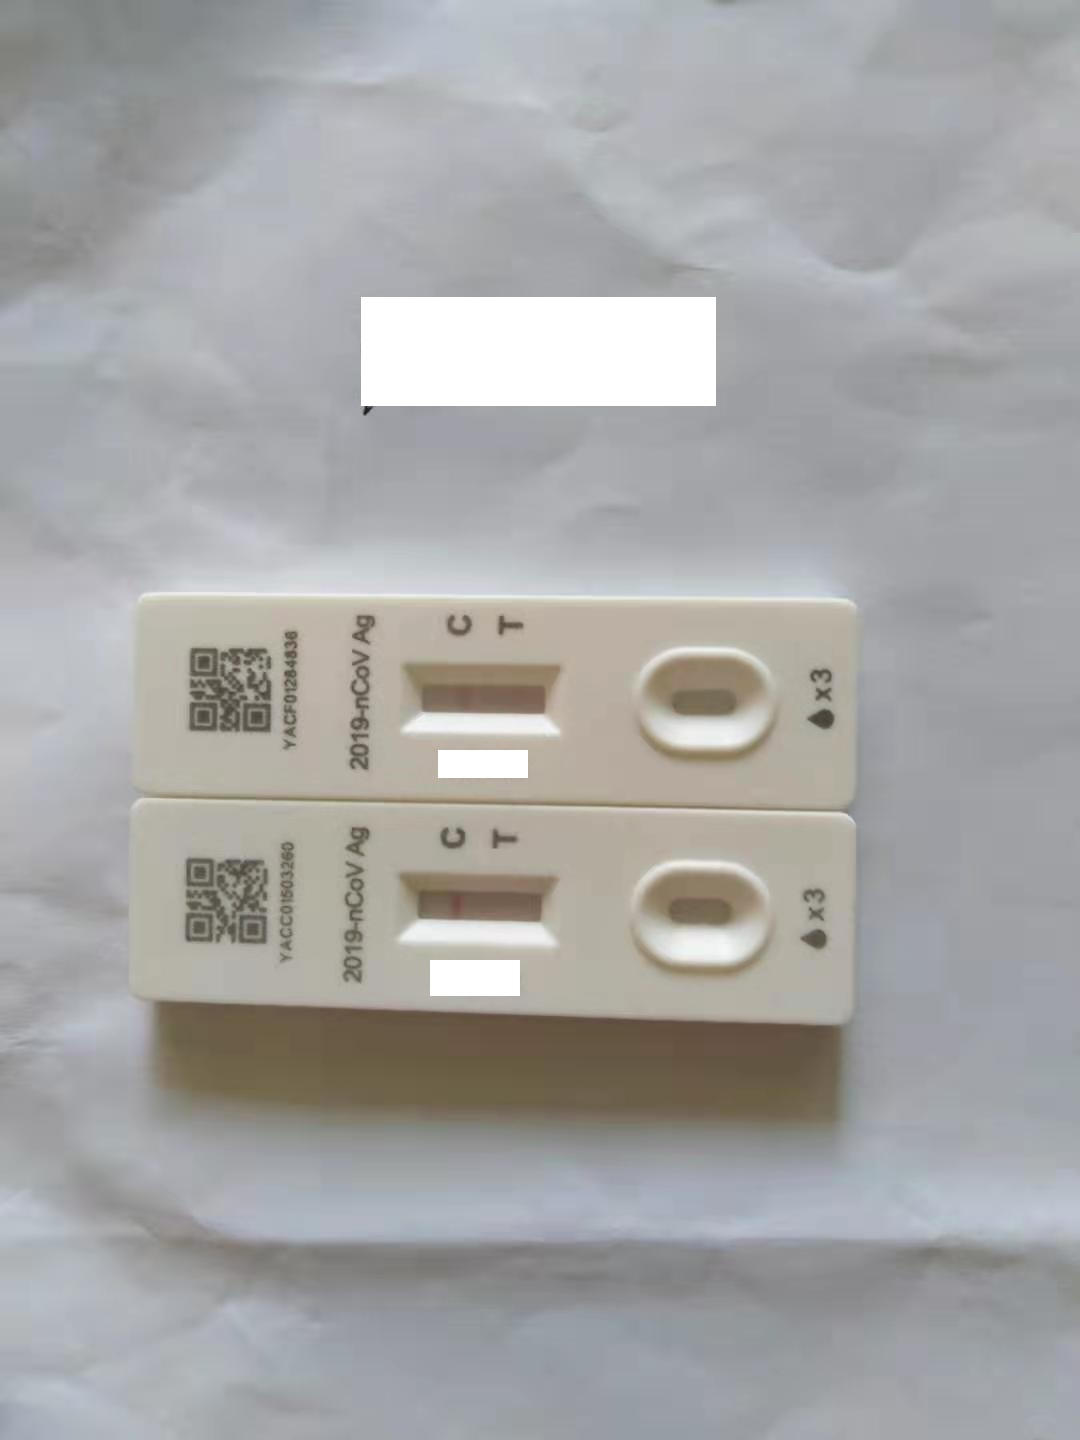negative: (393, 872, 566, 945), (404, 663, 566, 728)
